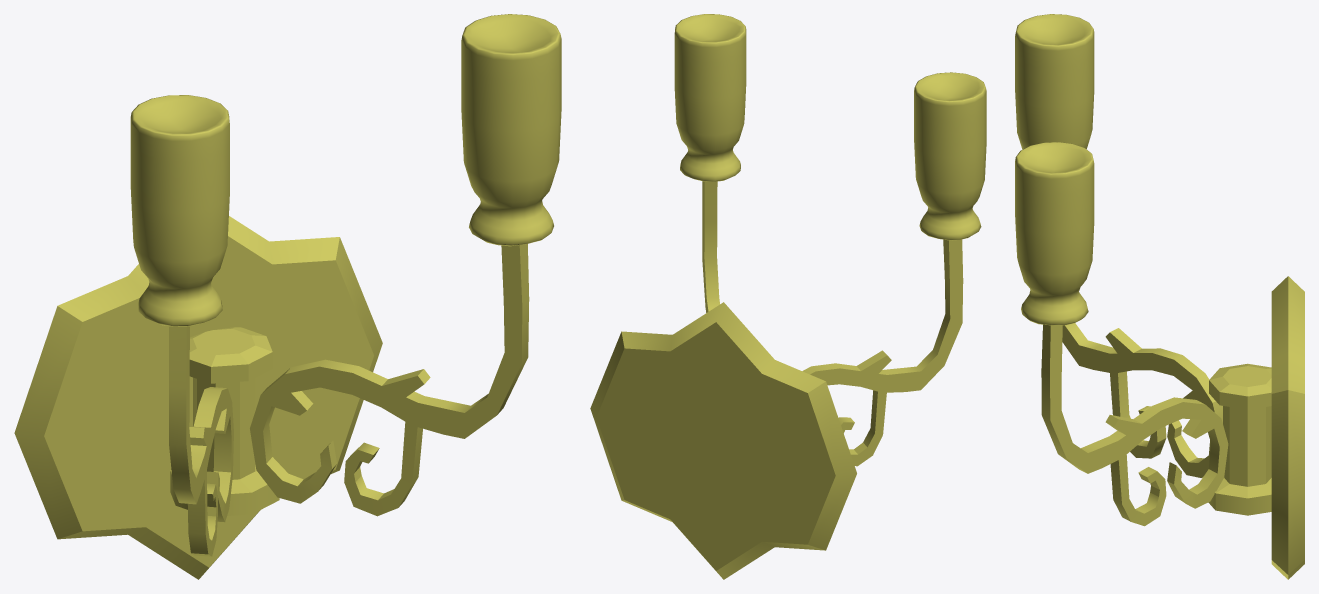
The model's file is Mesh_Lights.fbx.
3 renders of one model, left to right at view 1: azimuth 30°, elevation 25°; view 2: azimuth 150°, elevation 25°; view 3: azimuth 270°, elevation 25°, orthographic. The views are drawn at different scales.
Visible parts, largest first — view 1: polySurface5988; view 2: polySurface5988; view 3: polySurface5988.
Boxes of the visible parts, left/top/right/bottom form: polySurface5988: left=14, top=14, right=561, bottom=579; polySurface5988: left=590, top=14, right=986, bottom=579; polySurface5988: left=1015, top=14, right=1304, bottom=579.
Bounding box in the file's own units: 106 × 149 × 80.46.
